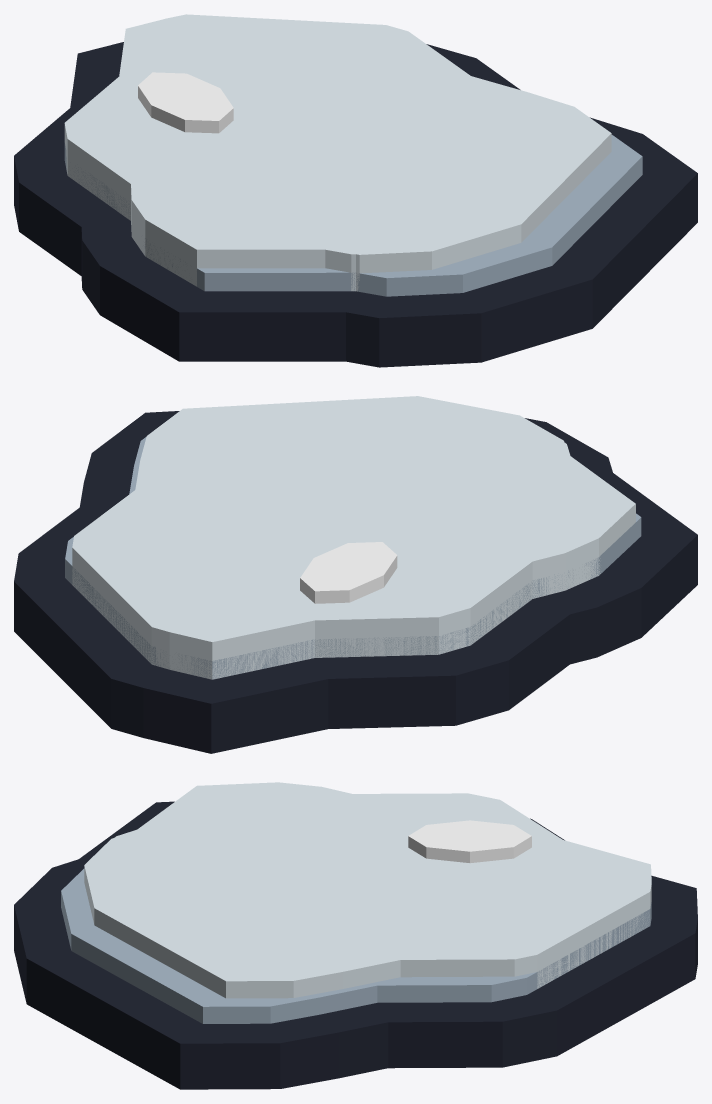
Rendered from white_wolf_fur.fbx.
The picture shows the model from 3 angles, top to bottom: view 1: azimuth 30°, elevation 25°; view 2: azimuth 150°, elevation 25°; view 3: azimuth 270°, elevation 25°; orthographic projection. The views are drawn at different scales.
Parts seen in each view (by area): view 1: white_wolf_fur; view 2: white_wolf_fur; view 3: white_wolf_fur.
Boxes of the visible parts, x1,y1,x2,y2 form: white_wolf_fur: (14, 14, 697, 367); white_wolf_fur: (14, 396, 697, 753); white_wolf_fur: (14, 782, 697, 1089).
Bounding box in the file's own units: 0.9217 × 0.16 × 1.08.
1 material, 1 textured.
